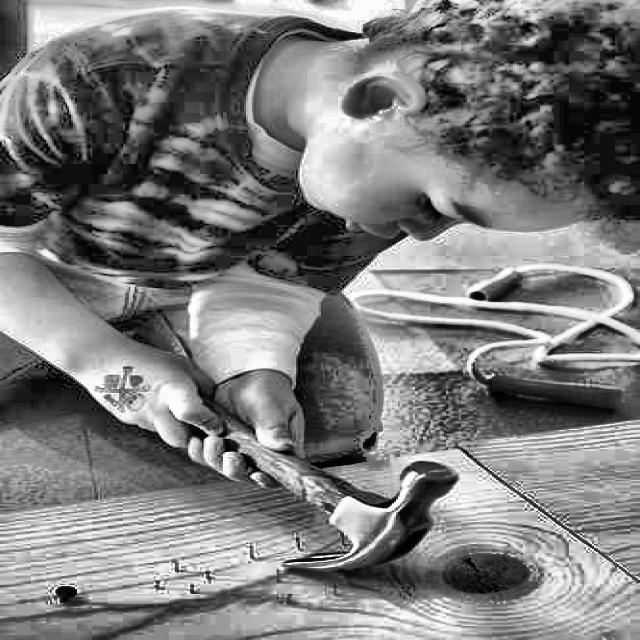hammer: (171, 375, 461, 573)
